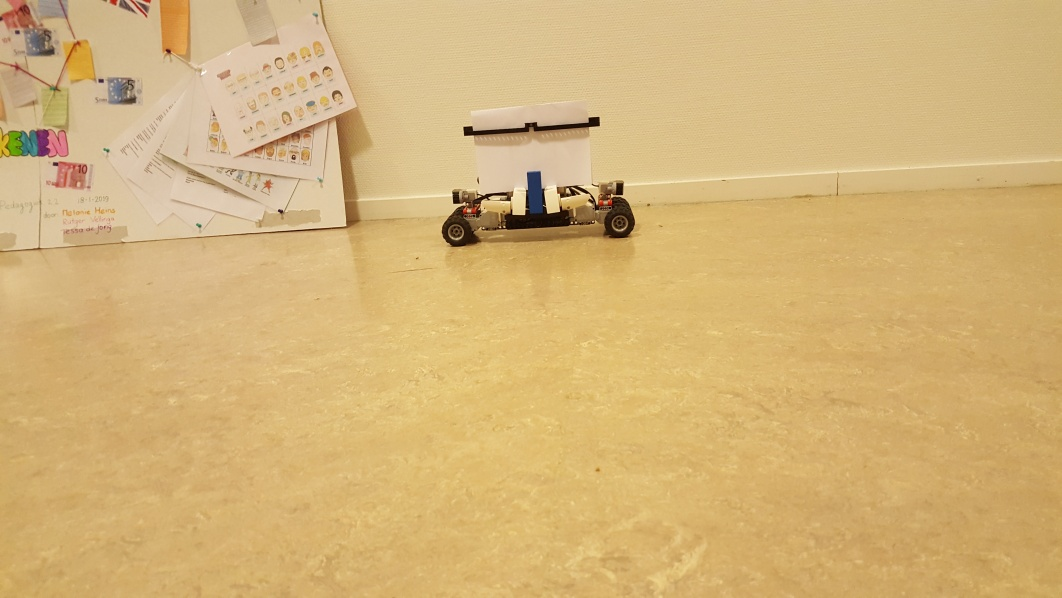car: (443, 98, 633, 244)
